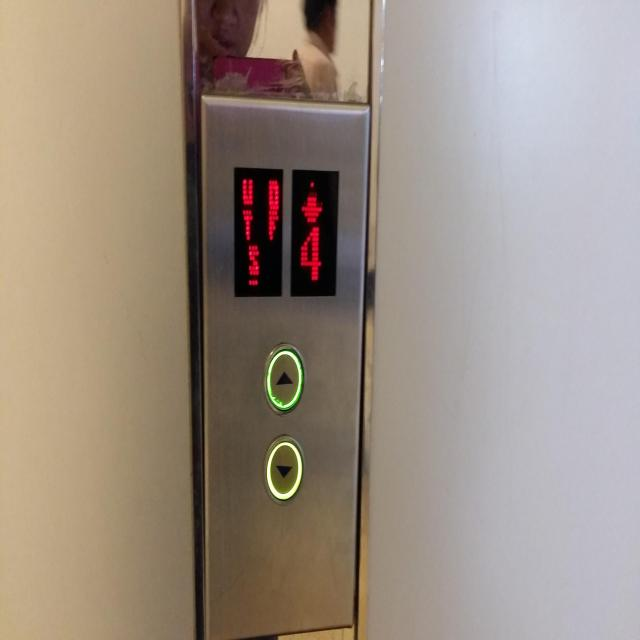down: (262, 433, 305, 507)
led: (287, 163, 342, 303), (231, 161, 285, 302)
up: (262, 342, 306, 416)
